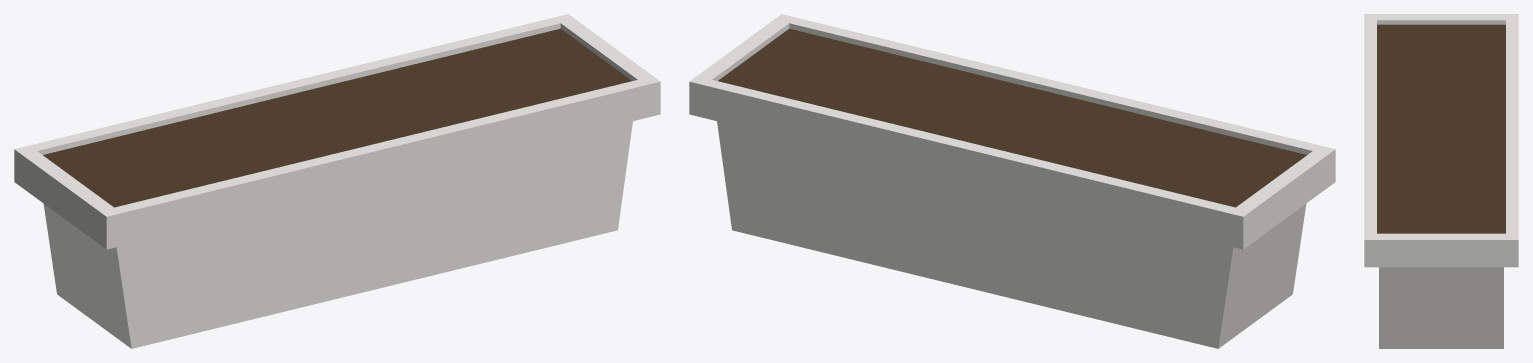
Rendered from SM_flowerbox_empty_02.fbx.
The picture shows the model from 3 angles, left to right: view 1: azimuth 30°, elevation 25°; view 2: azimuth 150°, elevation 25°; view 3: azimuth 270°, elevation 25°; orthographic projection. The views are drawn at different scales.
Visible parts, largest first — view 1: Box122; view 2: Box122; view 3: Box122.
Part boxes in pixels (<box>): Box122: <box>14,14,660,348</box>; Box122: <box>689,14,1335,348</box>; Box122: <box>1364,14,1518,348</box>.
Size of the model in its own units: 27.7 by 8 by 7.02.
